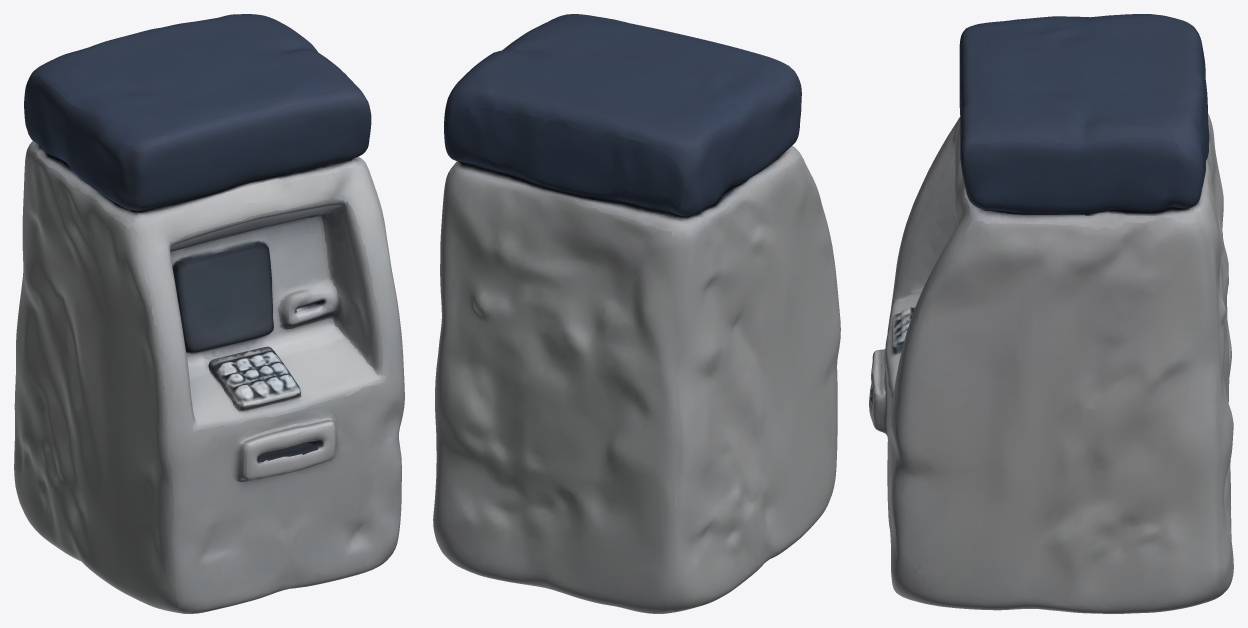
Rendered from atm.glb.
3 views of the same model, side by side, from view 1: azimuth 30°, elevation 25°; view 2: azimuth 150°, elevation 25°; view 3: azimuth 270°, elevation 25° (orthographic). The views are drawn at different scales.
Parts seen in each view (by area): view 1: tmp3gsuek4s.ply; view 2: tmp3gsuek4s.ply; view 3: tmp3gsuek4s.ply.
Part boxes in pixels (x1,y1,x2,y2): tmp3gsuek4s.ply: (14,14,404,613); tmp3gsuek4s.ply: (433,14,840,613); tmp3gsuek4s.ply: (869,14,1233,613).
Size of the model in its own units: 0.6037 by 0.9878 by 0.6781.
Materials: 1 (1 with a texture image).
